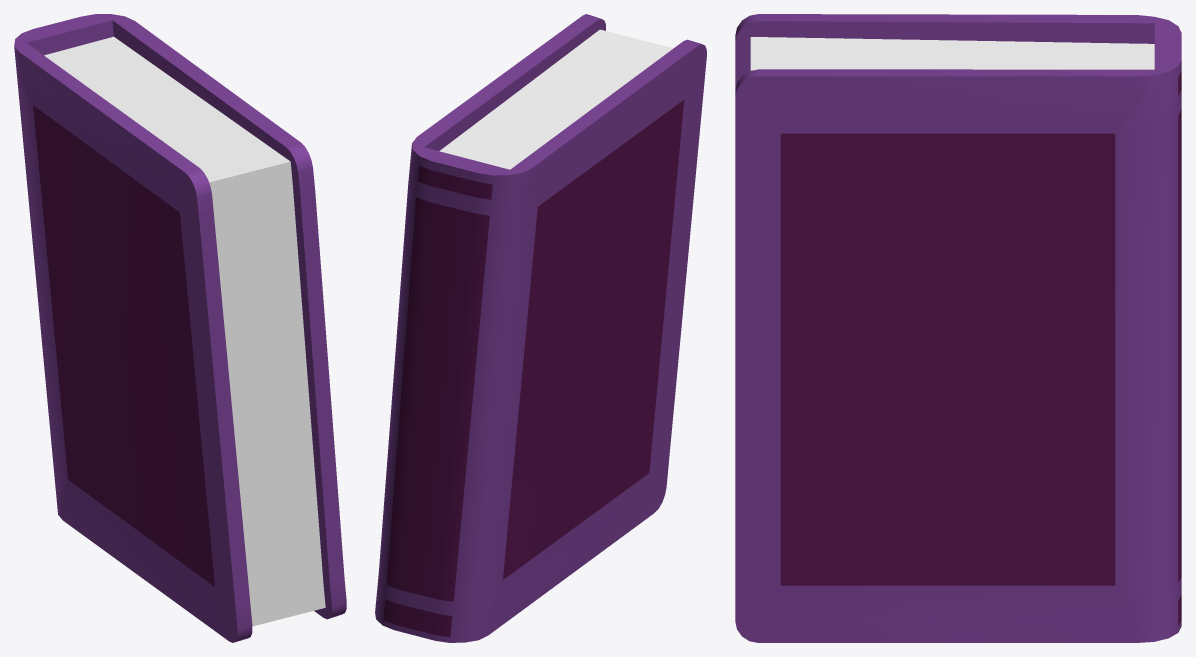
Rendered from book_14.fbx.
The picture shows the model from 3 angles, left to right: view 1: azimuth 30°, elevation 25°; view 2: azimuth 150°, elevation 25°; view 3: azimuth 270°, elevation 25°; orthographic projection. The views are drawn at different scales.
Parts seen in each view (by area): view 1: book_14; view 2: book_14; view 3: book_14.
Part boxes in pixels (x1,y1,x2,y2): book_14: (14, 14, 346, 642); book_14: (375, 14, 706, 642); book_14: (735, 14, 1181, 642).
Size of the model in its own units: 0.1152 by 0.347 by 0.2557.
